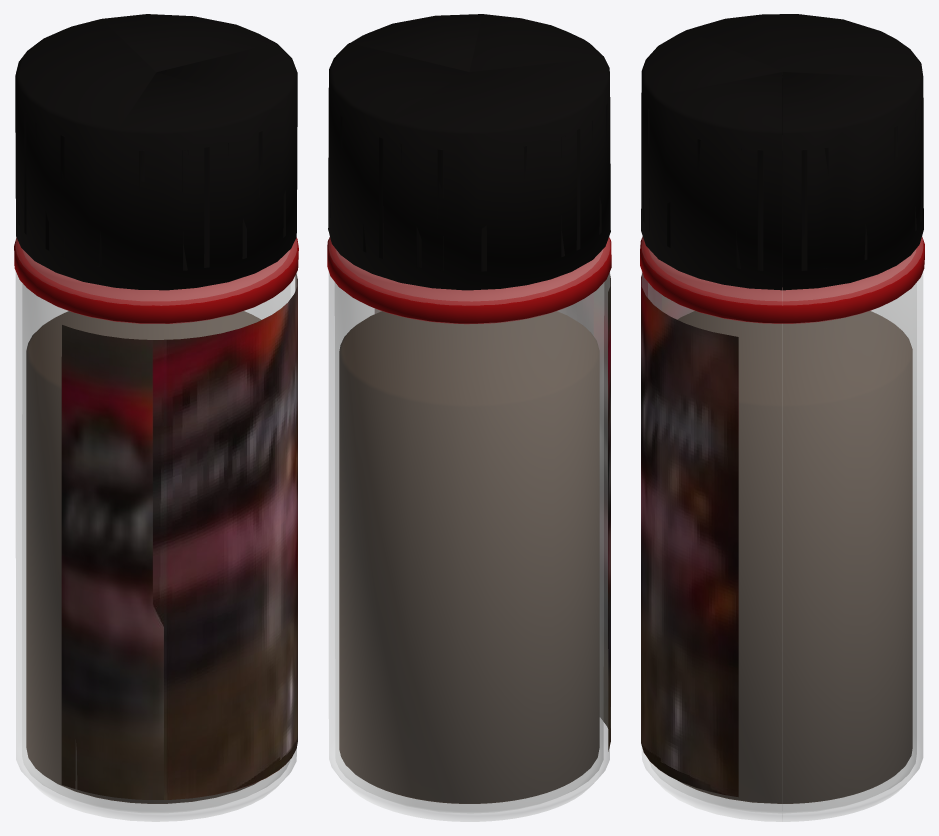
3 views of the same model, side by side, from view 1: azimuth 30°, elevation 25°; view 2: azimuth 150°, elevation 25°; view 3: azimuth 270°, elevation 25° (orthographic).
Parts seen in each view (by area): view 1: spice_jar__body, spice_jar__cap; view 2: spice_jar__body, spice_jar__cap; view 3: spice_jar__body, spice_jar__cap.
Boxes of the visible parts, x1=… form: spice_jar__body: x1=14, y1=237, x2=298, y2=821; spice_jar__cap: x1=15, y1=14, x2=297, y2=290; spice_jar__body: x1=327, y1=237, x2=611, y2=821; spice_jar__cap: x1=328, y1=14, x2=610, y2=290; spice_jar__body: x1=640, y1=236, x2=924, y2=821; spice_jar__cap: x1=641, y1=14, x2=923, y2=290.
Size of the model in its own units: 0.058 by 0.1562 by 0.058.
Materials: 5 (1 with a texture image).
